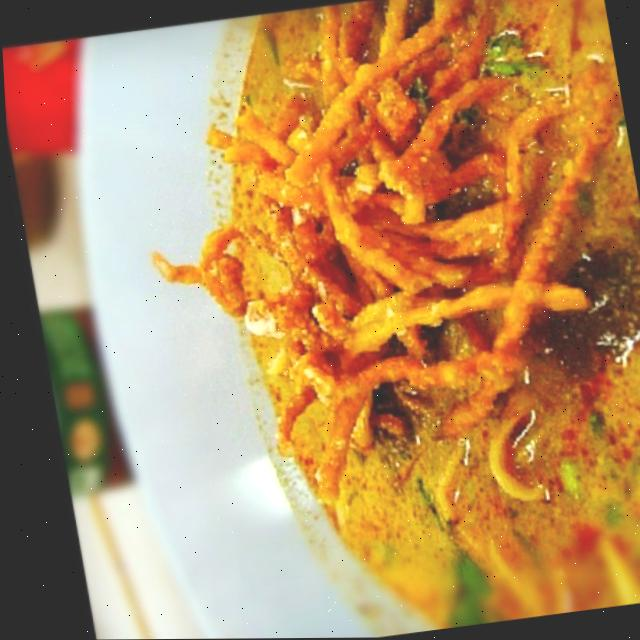面条主食: (59, 0, 640, 640)
